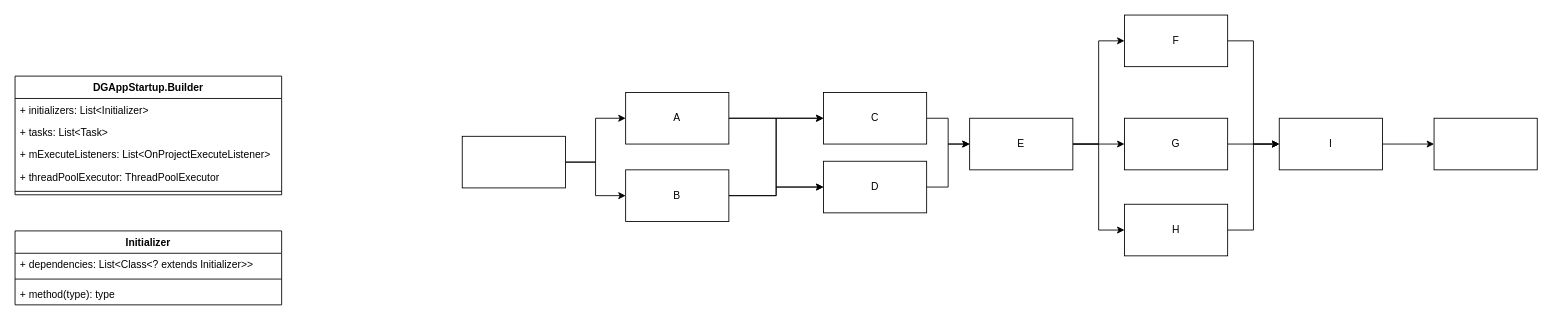
Image size: 1552x323. Some labels were removed from this diagram. The shapes that lost their labels are listed below. From the top down, each one's centre as x and y in pixels, then its label:
the point at 513,161: StartTask
the point at 1485,143: EndTask
